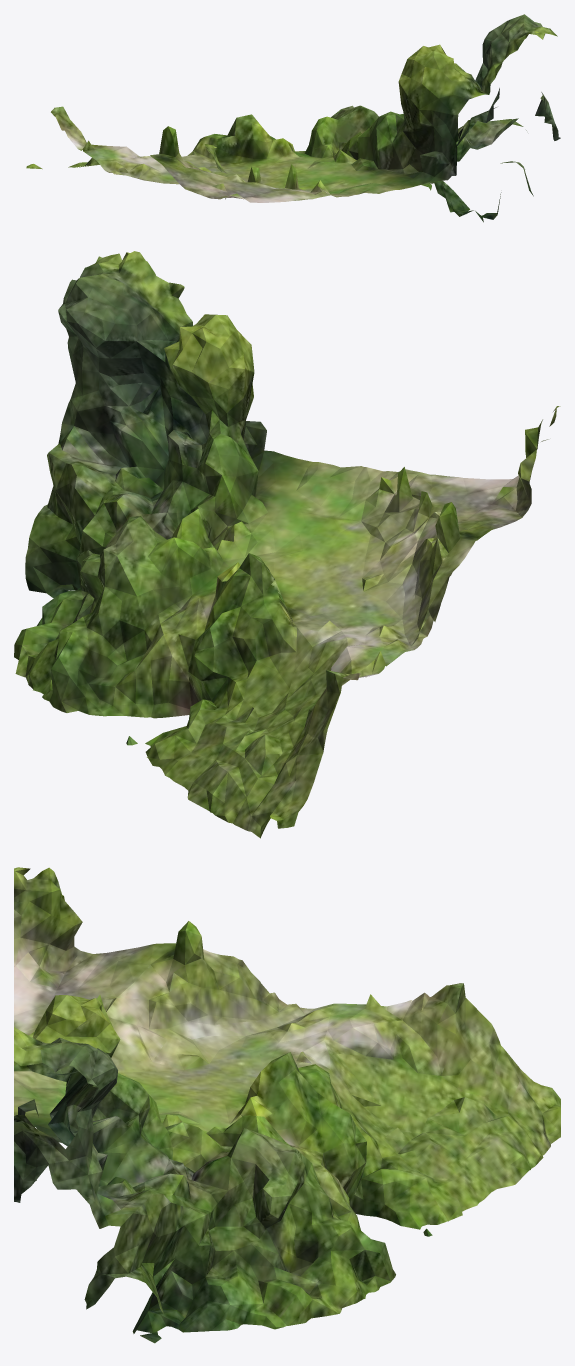
3 renders of one model, top to bottom at view 1: azimuth 30°, elevation 25°; view 2: azimuth 150°, elevation 25°; view 3: azimuth 270°, elevation 25°, orthographic. The views are drawn at different scales.
Size of the model in its own units: 26.11 by 16.03 by 26.11.
3 materials, 3 textured.
